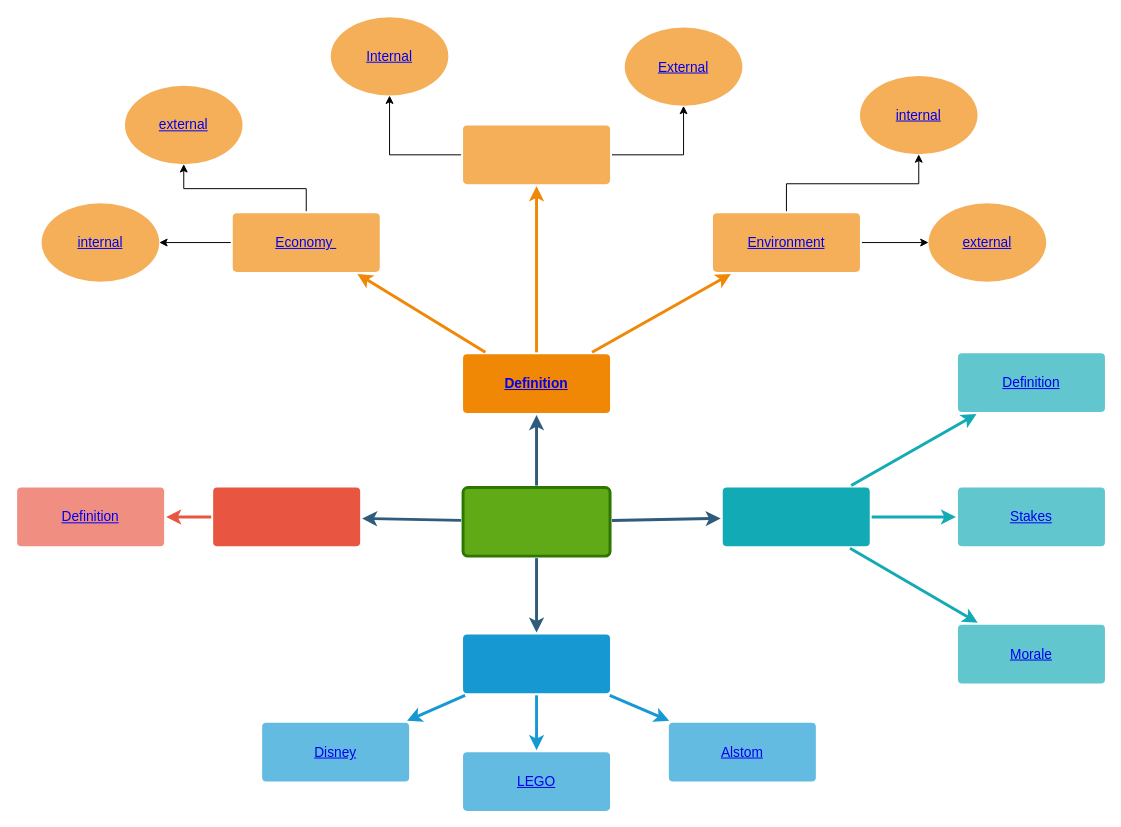
The diagram is 1121 pixels wide and 827 high, and some of its shapes have lost their labels. Each missing label, with the centre of its shape:
Corporate social responsibility: (536,521)
ESG: (795,516)
ESS: (286,516)
Examples: (536,663)
Social: (536,154)
